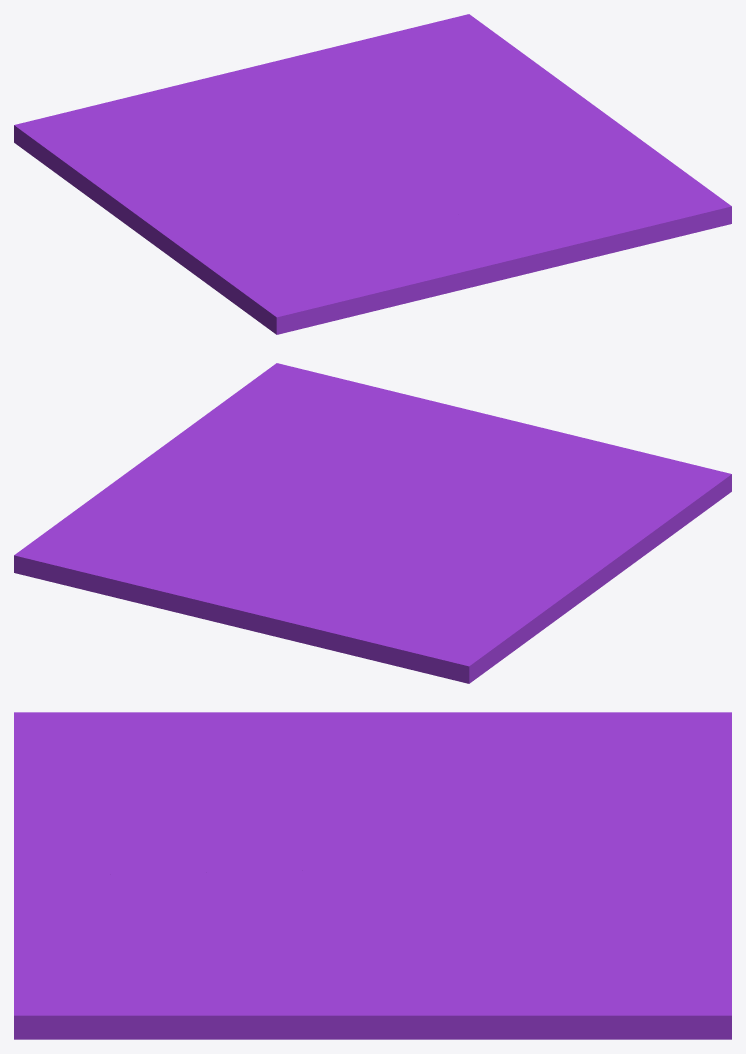
Rendered from Platform_6_chunks.fbx.
The picture shows the model from 3 angles, top to bottom: view 1: azimuth 30°, elevation 25°; view 2: azimuth 150°, elevation 25°; view 3: azimuth 270°, elevation 25°; orthographic projection. The views are drawn at different scales.
Visible parts, largest first — view 1: Platform_6_3, Platform_6_1, Platform_6_2, Platform_6_0; view 2: Platform_6_3, Platform_6_2, Platform_6_0, Platform_6_1; view 3: Platform_6_3, Platform_6_1, Platform_6_0, Platform_6_2.
Boxes of the visible parts, <box> form: Platform_6_3: <box>125,164,523,334</box>; Platform_6_1: <box>386,105,731,277</box>; Platform_6_2: <box>14,63,358,228</box>; Platform_6_0: <box>267,14,593,167</box>; Platform_6_3: <box>371,414,731,596</box>; Platform_6_2: <box>195,520,587,683</box>; Platform_6_0: <box>14,464,377,616</box>; Platform_6_1: <box>139,363,484,508</box>; Platform_6_3: <box>14,712,428,876</box>; Platform_6_1: <box>14,869,422,1039</box>; Platform_6_0: <box>358,858,731,1039</box>; Platform_6_2: <box>385,712,731,881</box>.
Bounding box in the file's own units: 810 × 29.87 × 810.
